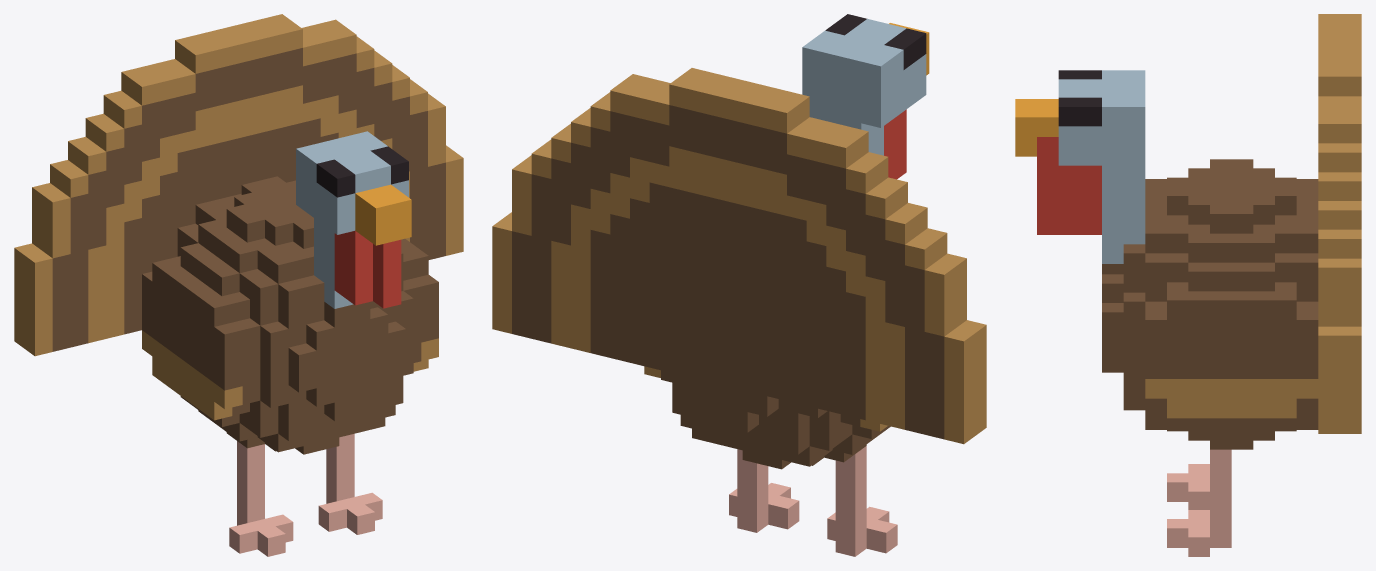
Rendered from turkey.glb.
The picture shows the model from 3 angles, left to right: view 1: azimuth 30°, elevation 25°; view 2: azimuth 150°, elevation 25°; view 3: azimuth 270°, elevation 25°; orthographic projection. The views are drawn at different scales.
Visible parts, largest first — view 1: turkey; view 2: turkey; view 3: turkey.
Part boxes in pixels (left/top/right/bottom): turkey: left=14, top=14, right=463, bottom=556; turkey: left=492, top=14, right=986, bottom=556; turkey: left=1015, top=14, right=1361, bottom=556.
Bounding box in the file's own units: 2.4 × 2.4 × 1.6.
1 material, 1 textured.
